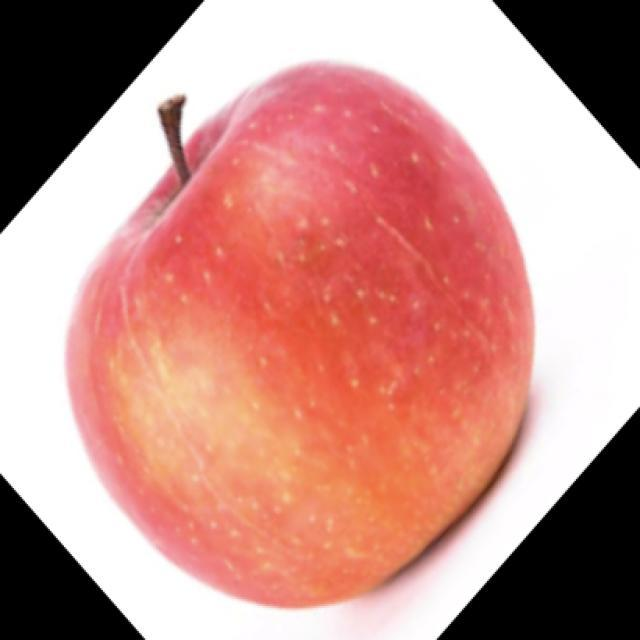Fresh Apple: (84, 74, 548, 598)
